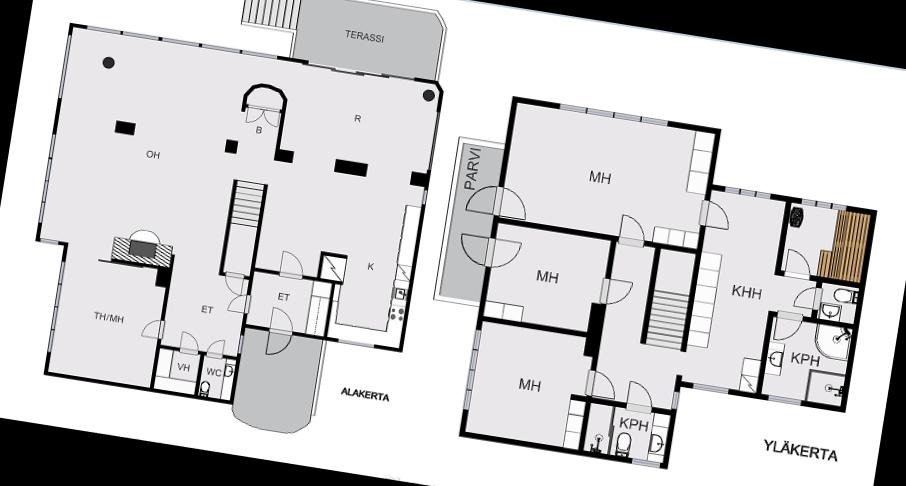door: (454, 228, 496, 272), (484, 234, 525, 276), (694, 198, 738, 236), (580, 366, 623, 404), (460, 180, 505, 215), (492, 186, 533, 224), (596, 276, 636, 310), (614, 210, 650, 246), (781, 246, 816, 283), (622, 378, 657, 415), (770, 309, 806, 344), (262, 326, 296, 360), (276, 247, 308, 283), (791, 282, 824, 314), (267, 305, 299, 338), (135, 315, 168, 343), (175, 328, 205, 358), (221, 270, 248, 297), (226, 290, 253, 316), (204, 336, 228, 361), (260, 106, 282, 130), (243, 104, 265, 126)
window: (423, 109, 446, 174), (56, 32, 76, 105), (158, 33, 203, 54), (198, 40, 242, 59), (688, 379, 734, 397), (119, 27, 162, 46), (764, 390, 804, 410), (81, 22, 124, 40), (240, 46, 280, 64), (334, 336, 379, 352), (640, 110, 672, 130), (626, 456, 666, 472), (556, 98, 588, 117), (614, 108, 644, 128), (586, 104, 616, 122), (46, 130, 62, 160), (54, 256, 70, 284), (33, 202, 50, 228), (665, 389, 684, 412), (466, 348, 484, 372), (51, 282, 67, 308), (42, 156, 58, 182), (44, 328, 58, 356), (48, 305, 63, 331), (469, 327, 484, 352), (38, 178, 52, 204), (460, 388, 474, 412), (464, 369, 480, 390), (798, 194, 818, 210), (738, 184, 758, 200), (36, 237, 64, 248), (815, 196, 833, 210), (755, 188, 773, 202), (722, 183, 740, 197), (830, 201, 849, 214), (421, 188, 432, 208)
